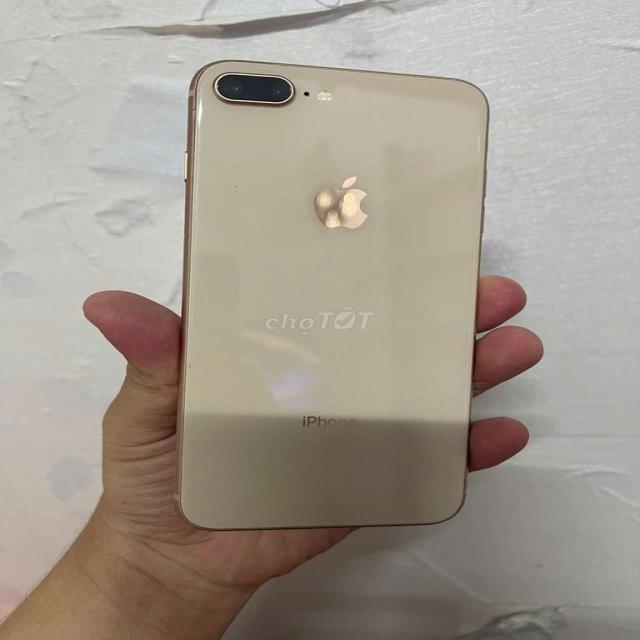gen_7_8: (158, 53, 502, 535)
